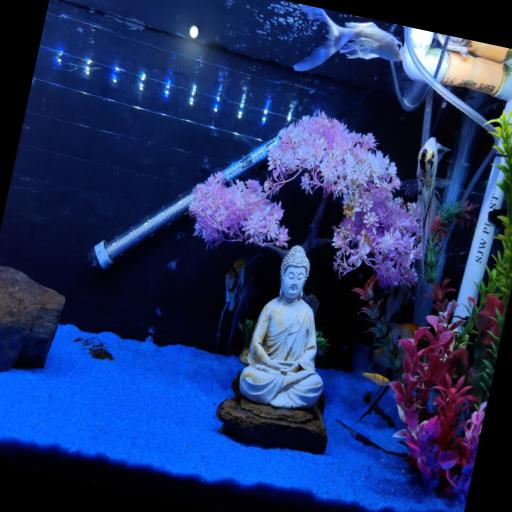Fish: (294, 4, 402, 71), (413, 137, 450, 257), (216, 256, 257, 354), (352, 344, 388, 374), (363, 373, 390, 386)
